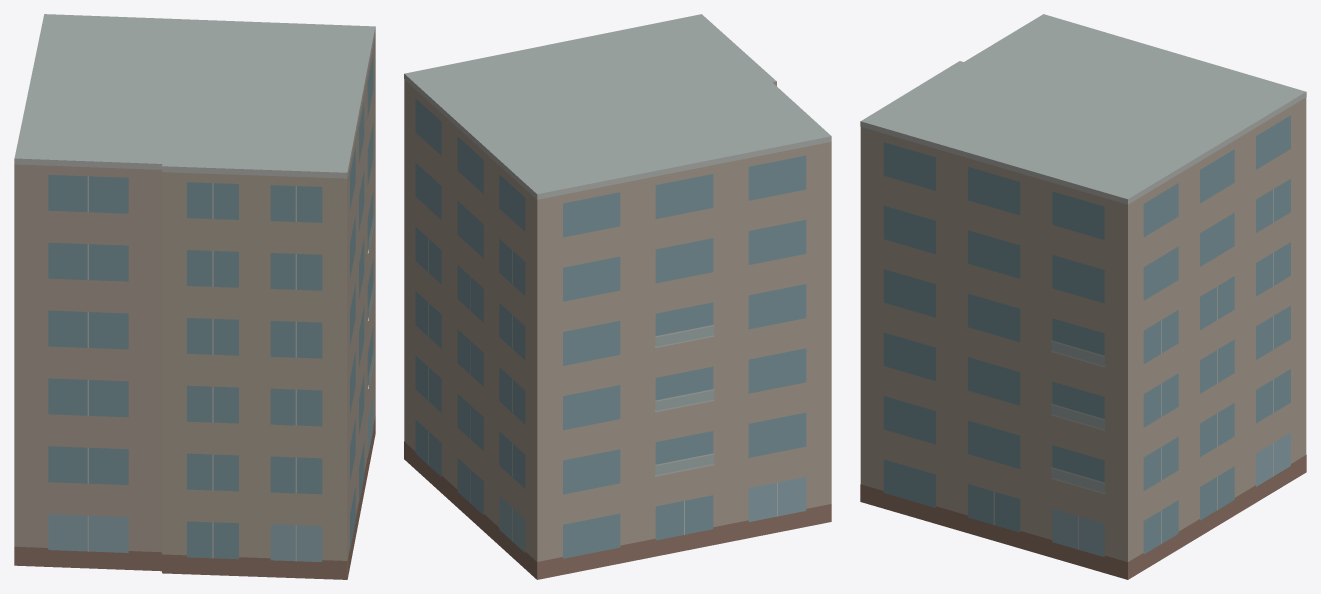
File: survey-upis-32842972.glb
3 views of the same model, side by side, from view 1: azimuth 30°, elevation 25°; view 2: azimuth 150°, elevation 25°; view 3: azimuth 270°, elevation 25° (orthographic). The views are drawn at different scales.
Parts seen in each view (by area): view 1: survey-upis-32842972.tmp; view 2: survey-upis-32842972.tmp; view 3: survey-upis-32842972.tmp.
Boxes of the visible parts, box(x1,y1,x2,y2) form: survey-upis-32842972.tmp: box(14, 14, 375, 579); survey-upis-32842972.tmp: box(404, 14, 831, 579); survey-upis-32842972.tmp: box(860, 14, 1306, 579).
Size of the model in its own units: 17.76 by 17 by 18.06.
